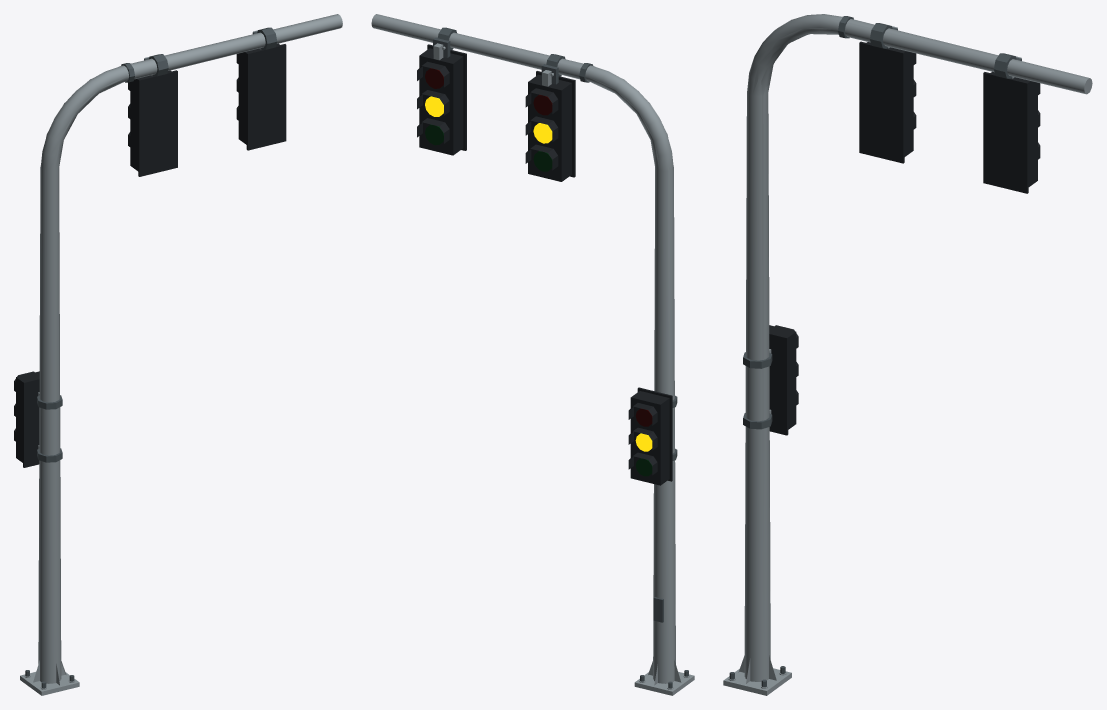
The model's file is traffic-signal-gantry.glb.
3 views of the same model, side by side, from view 1: azimuth 30°, elevation 25°; view 2: azimuth 150°, elevation 25°; view 3: azimuth 330°, elevation 25° (orthographic). The views are drawn at different scales.
Parts seen in each view (by area): view 1: traffic-signal-gantry (×2); view 2: traffic-signal-gantry (×2); view 3: traffic-signal-gantry (×2).
Part boxes in pixels (x1=…): traffic-signal-gantry (×2): x1=14, y1=14, x2=342, y2=695; traffic-signal-gantry (×2): x1=371, y1=14, x2=694, y2=695; traffic-signal-gantry (×2): x1=723, y1=14, x2=1092, y2=695.
Size of the model in its own units: 9.55 by 17.79 by 1.87.
